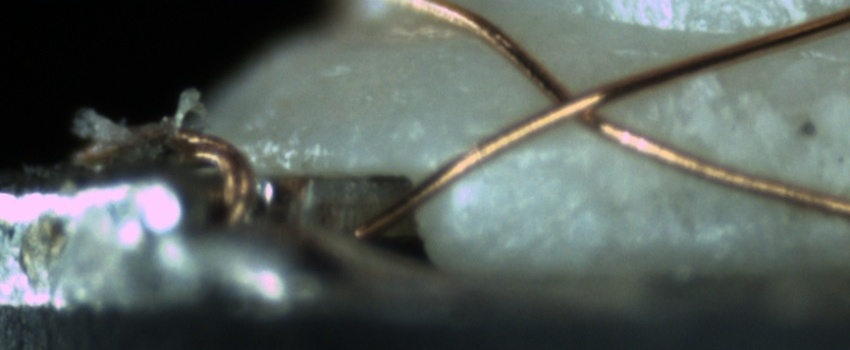CL: (526, 66, 631, 138)
DL: (454, 140, 574, 192)
TE: (76, 122, 260, 229)
